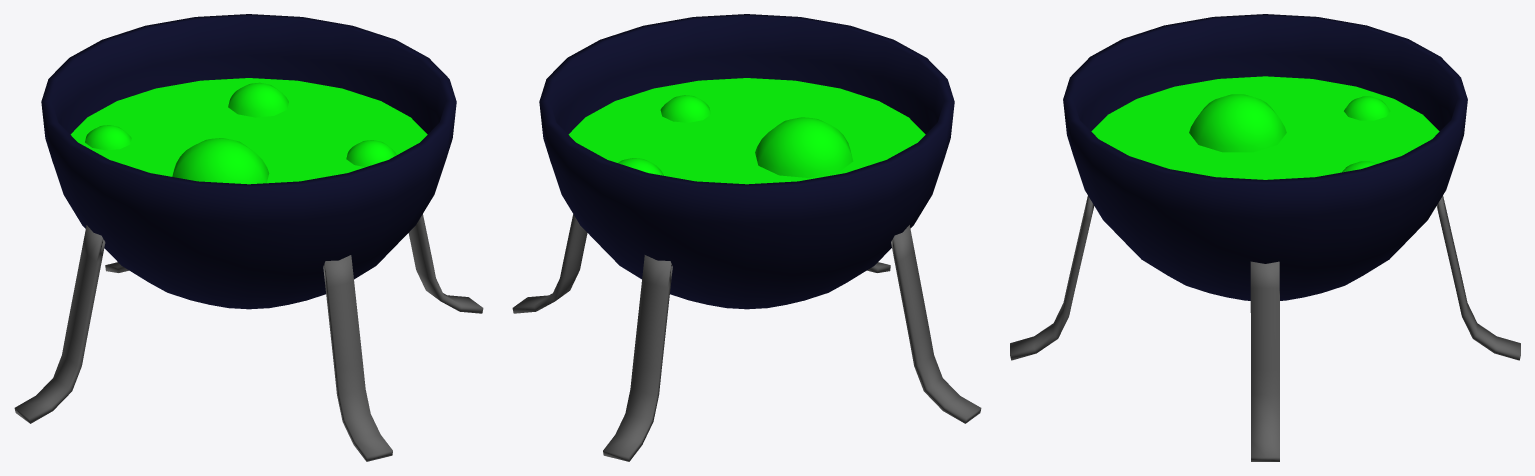
Rendered from Cauldron_1.fbx.
3 views of the same model, side by side, from view 1: azimuth 30°, elevation 25°; view 2: azimuth 150°, elevation 25°; view 3: azimuth 270°, elevation 25° (orthographic). The views are drawn at different scales.
Visible parts, largest first — view 1: Cauldron_1; view 2: Cauldron_1; view 3: Cauldron_1.
Part boxes in pixels (x1=…): Cauldron_1: x1=14, y1=14, x2=483, y2=461; Cauldron_1: x1=512, y1=14, x2=981, y2=461; Cauldron_1: x1=1010, y1=14, x2=1520, y2=461.
Size of the model in its own units: 2.52 by 1.39 by 2.52.
